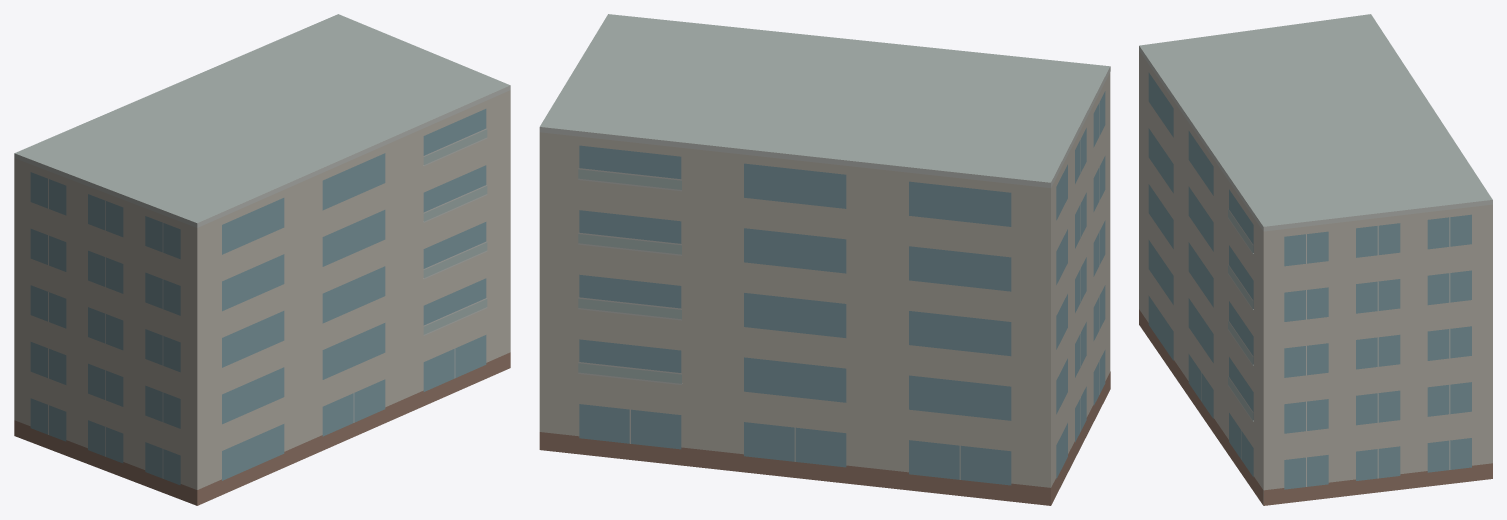
The model's file is survey-upis-32759524.glb.
The picture shows the model from 3 angles, left to right: view 1: azimuth 30°, elevation 25°; view 2: azimuth 150°, elevation 25°; view 3: azimuth 270°, elevation 25°; orthographic projection. The views are drawn at different scales.
Parts seen in each view (by area): view 1: survey-upis-32759524.tmp; view 2: survey-upis-32759524.tmp; view 3: survey-upis-32759524.tmp.
Boxes of the visible parts, x1,y1,x2,y2 form: survey-upis-32759524.tmp: (14, 14, 510, 505); survey-upis-32759524.tmp: (539, 14, 1110, 505); survey-upis-32759524.tmp: (1139, 14, 1492, 505).
Size of the model in its own units: 23.73 by 14.5 by 16.67.
